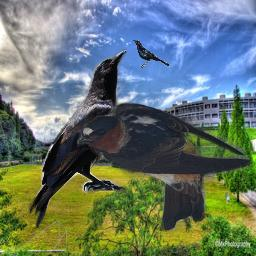Crow: (28, 49, 127, 228), (133, 40, 169, 68)
Swallow: (77, 100, 254, 232)
